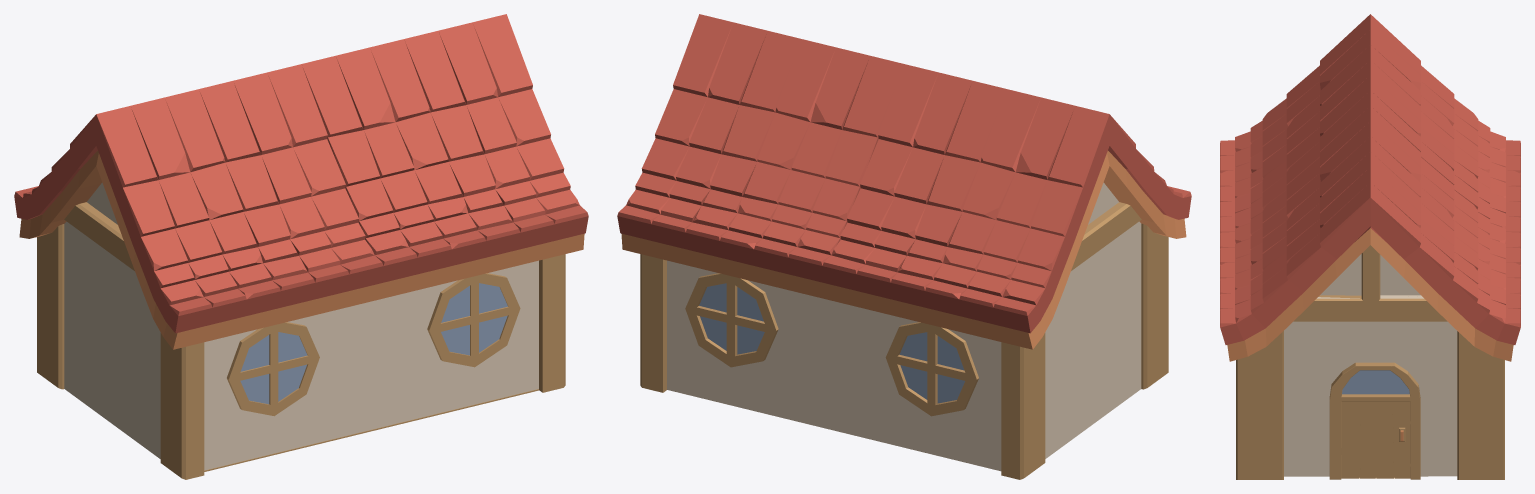
File: house.fbx
3 views of the same model, side by side, from view 1: azimuth 30°, elevation 25°; view 2: azimuth 150°, elevation 25°; view 3: azimuth 270°, elevation 25° (orthographic). The views are drawn at different scales.
Visible parts, largest first — view 1: Cube.001, Cube.005; view 2: Cube.001, Cube.005; view 3: Cube.001, Cube.005, Cube.002.
Part boxes in pixels (box(x1,y1,x2,y2)): Cube.001: box(14, 14, 588, 349); Cube.005: box(37, 182, 565, 479); Cube.001: box(617, 14, 1191, 349); Cube.005: box(640, 182, 1168, 479); Cube.001: box(1220, 14, 1520, 361); Cube.005: box(1236, 245, 1504, 479); Cube.002: box(1329, 362, 1420, 479).
Bounding box in the file's own units: 899 × 663 × 623.
